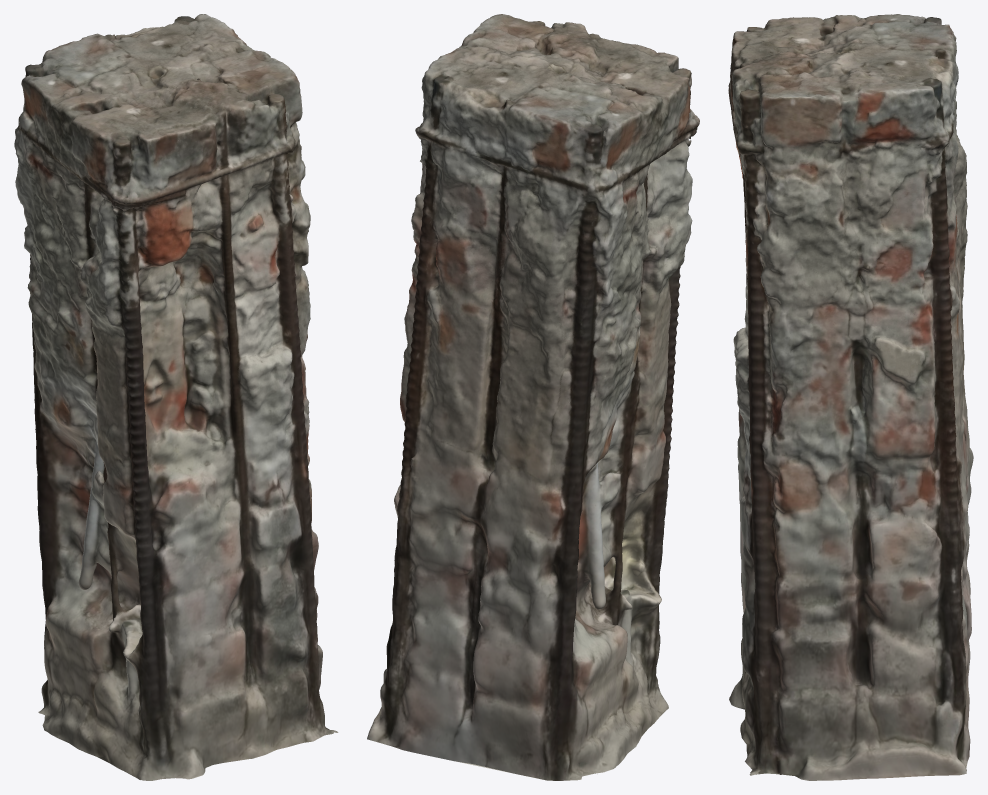
File: RustyColumn.fbx
The picture shows the model from 3 angles, left to right: view 1: azimuth 30°, elevation 25°; view 2: azimuth 150°, elevation 25°; view 3: azimuth 270°, elevation 25°; orthographic projection.
Visible parts, largest first — view 1: 3DModel_Custom.001; view 2: 3DModel_Custom.001; view 3: 3DModel_Custom.001.
Boxes of the visible parts, x1,y1,x2,y2 form: 3DModel_Custom.001: (14,14,338,780); 3DModel_Custom.001: (367,14,699,780); 3DModel_Custom.001: (728,14,973,780).
Size of the model in its own units: 42.41 by 111 by 36.84.
1 material, 1 textured.
